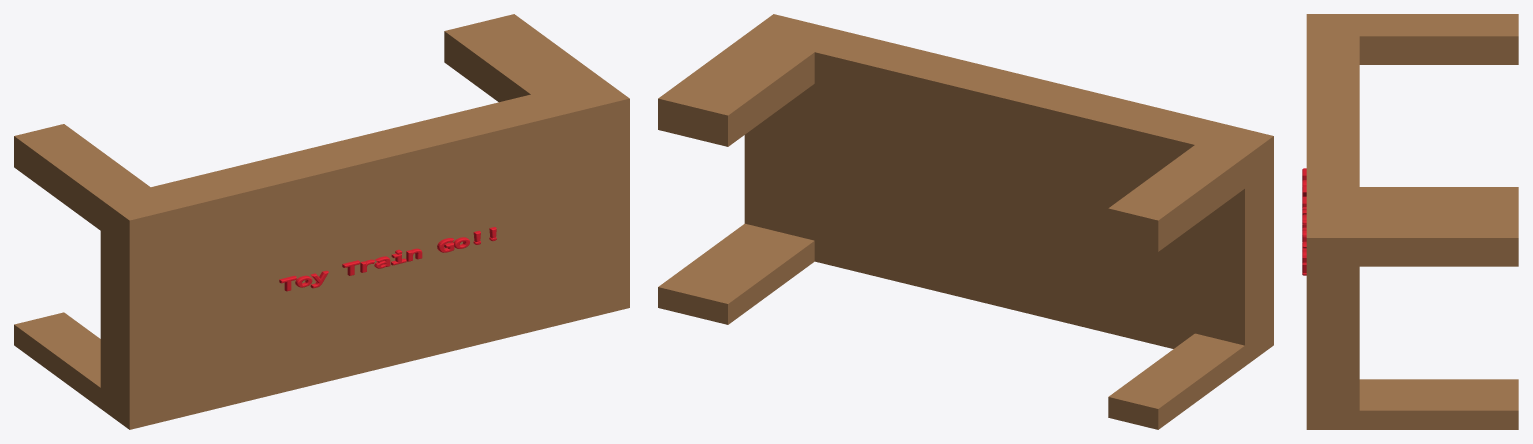
The model's file is tinker.obj.
3 renders of one model, left to right at view 1: azimuth 30°, elevation 25°; view 2: azimuth 150°, elevation 25°; view 3: azimuth 270°, elevation 25°, orthographic. The views are drawn at different scales.
Parts seen in each view (by area): view 1: group_0_11107152, group_0_15277357; view 2: group_0_11107152; view 3: group_0_11107152, group_0_15277357.
Part boxes in pixels (bbox=[...]): group_0_11107152: bbox=[14, 14, 629, 429]; group_0_15277357: bbox=[279, 227, 496, 291]; group_0_11107152: bbox=[658, 14, 1273, 429]; group_0_11107152: bbox=[1306, 14, 1518, 429]; group_0_15277357: bbox=[1302, 168, 1306, 275].
Bounding box in the file's own units: 50 × 20 × 20.4.
